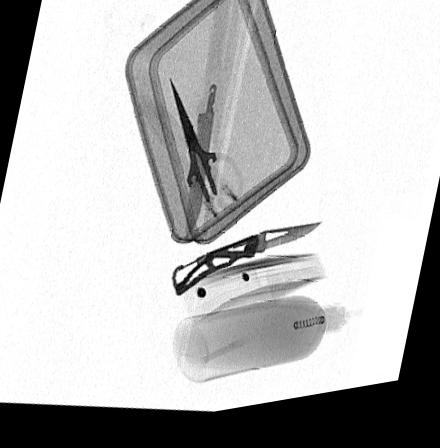Knife: (171, 233, 322, 303)
Scissors: (165, 83, 245, 250)
